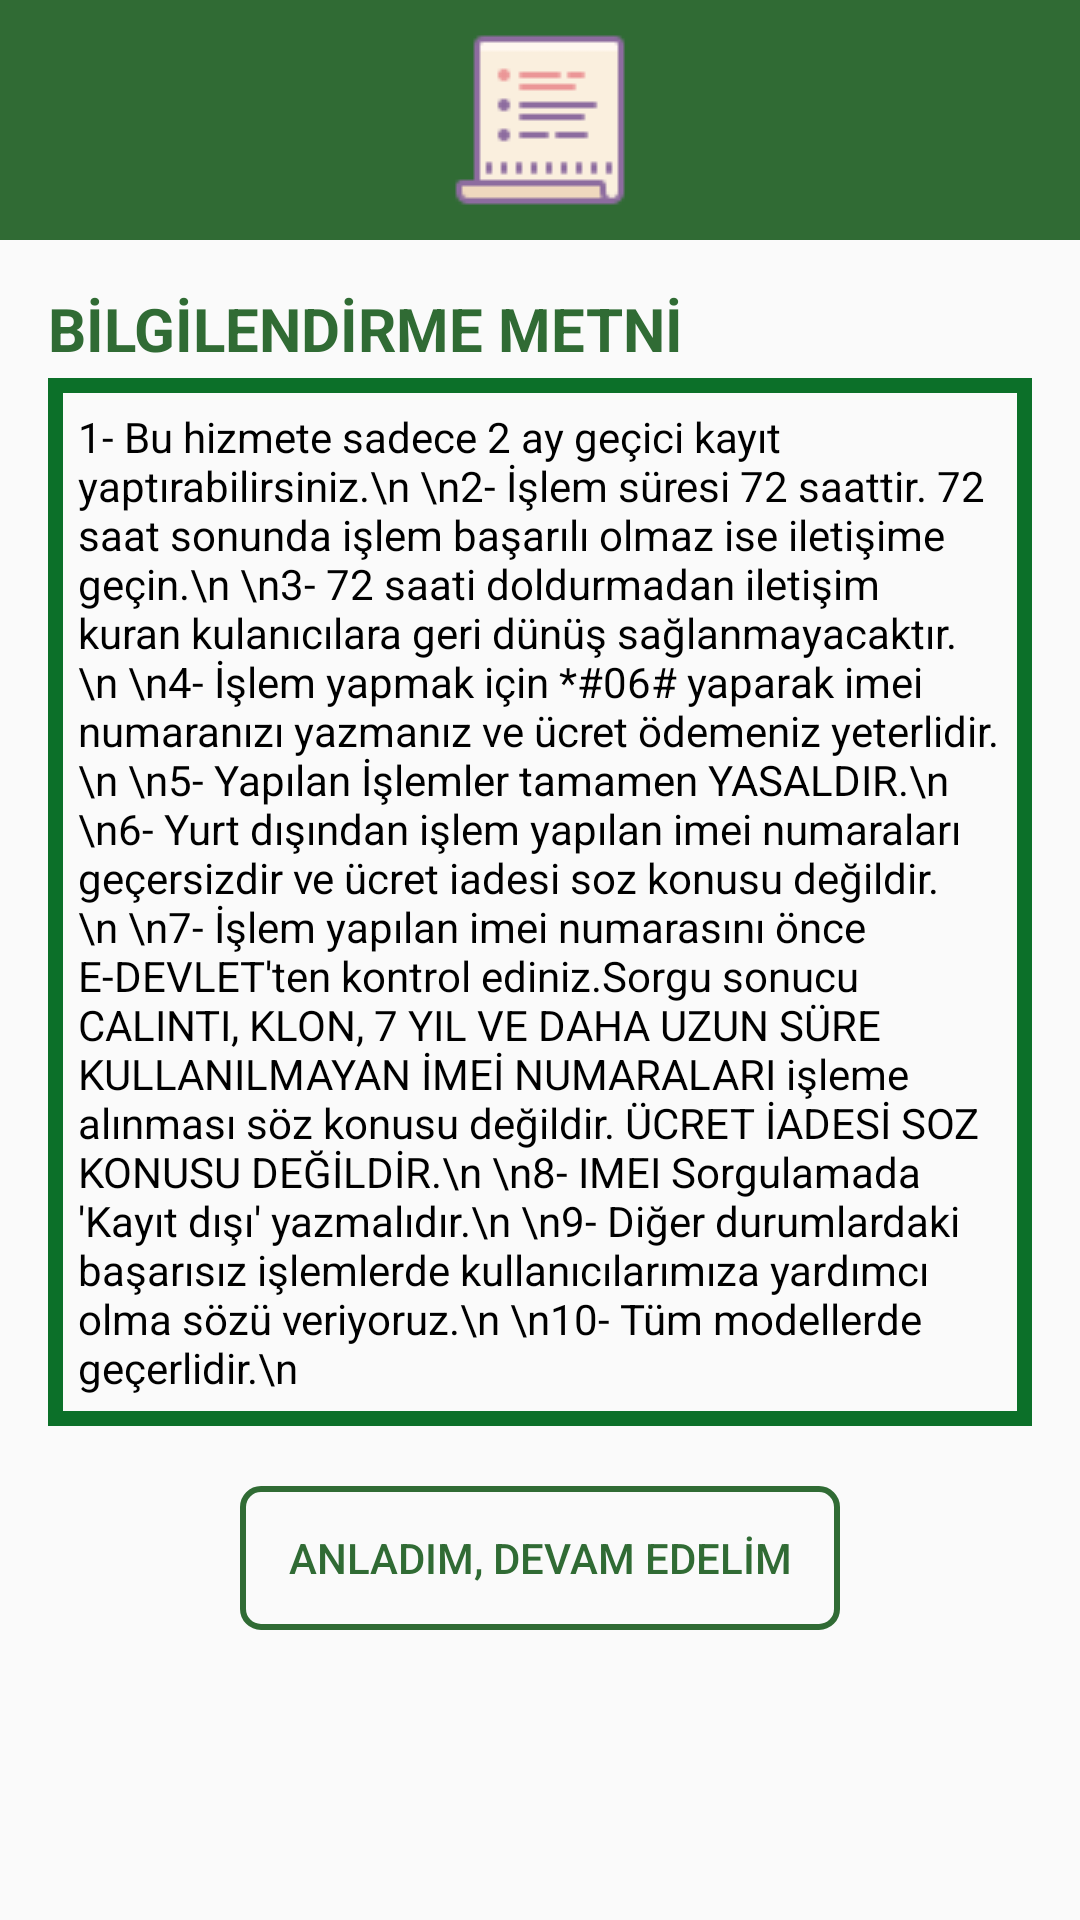

Named icons in this screenshot (1080×1920) and their centers, (x=x, y=y):
rules: (x=540, y=120)
